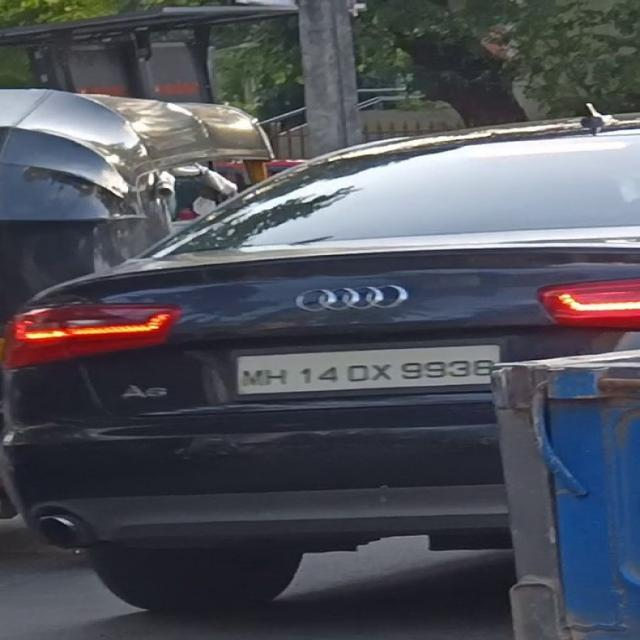Plate: (234, 344, 505, 395)
